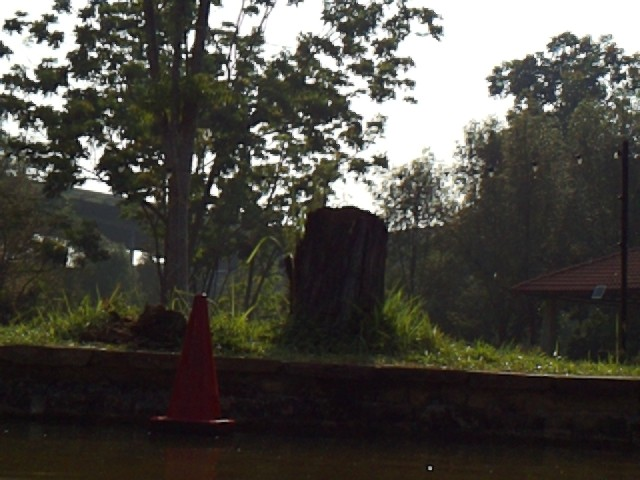obstacle: (152, 294, 238, 437)
